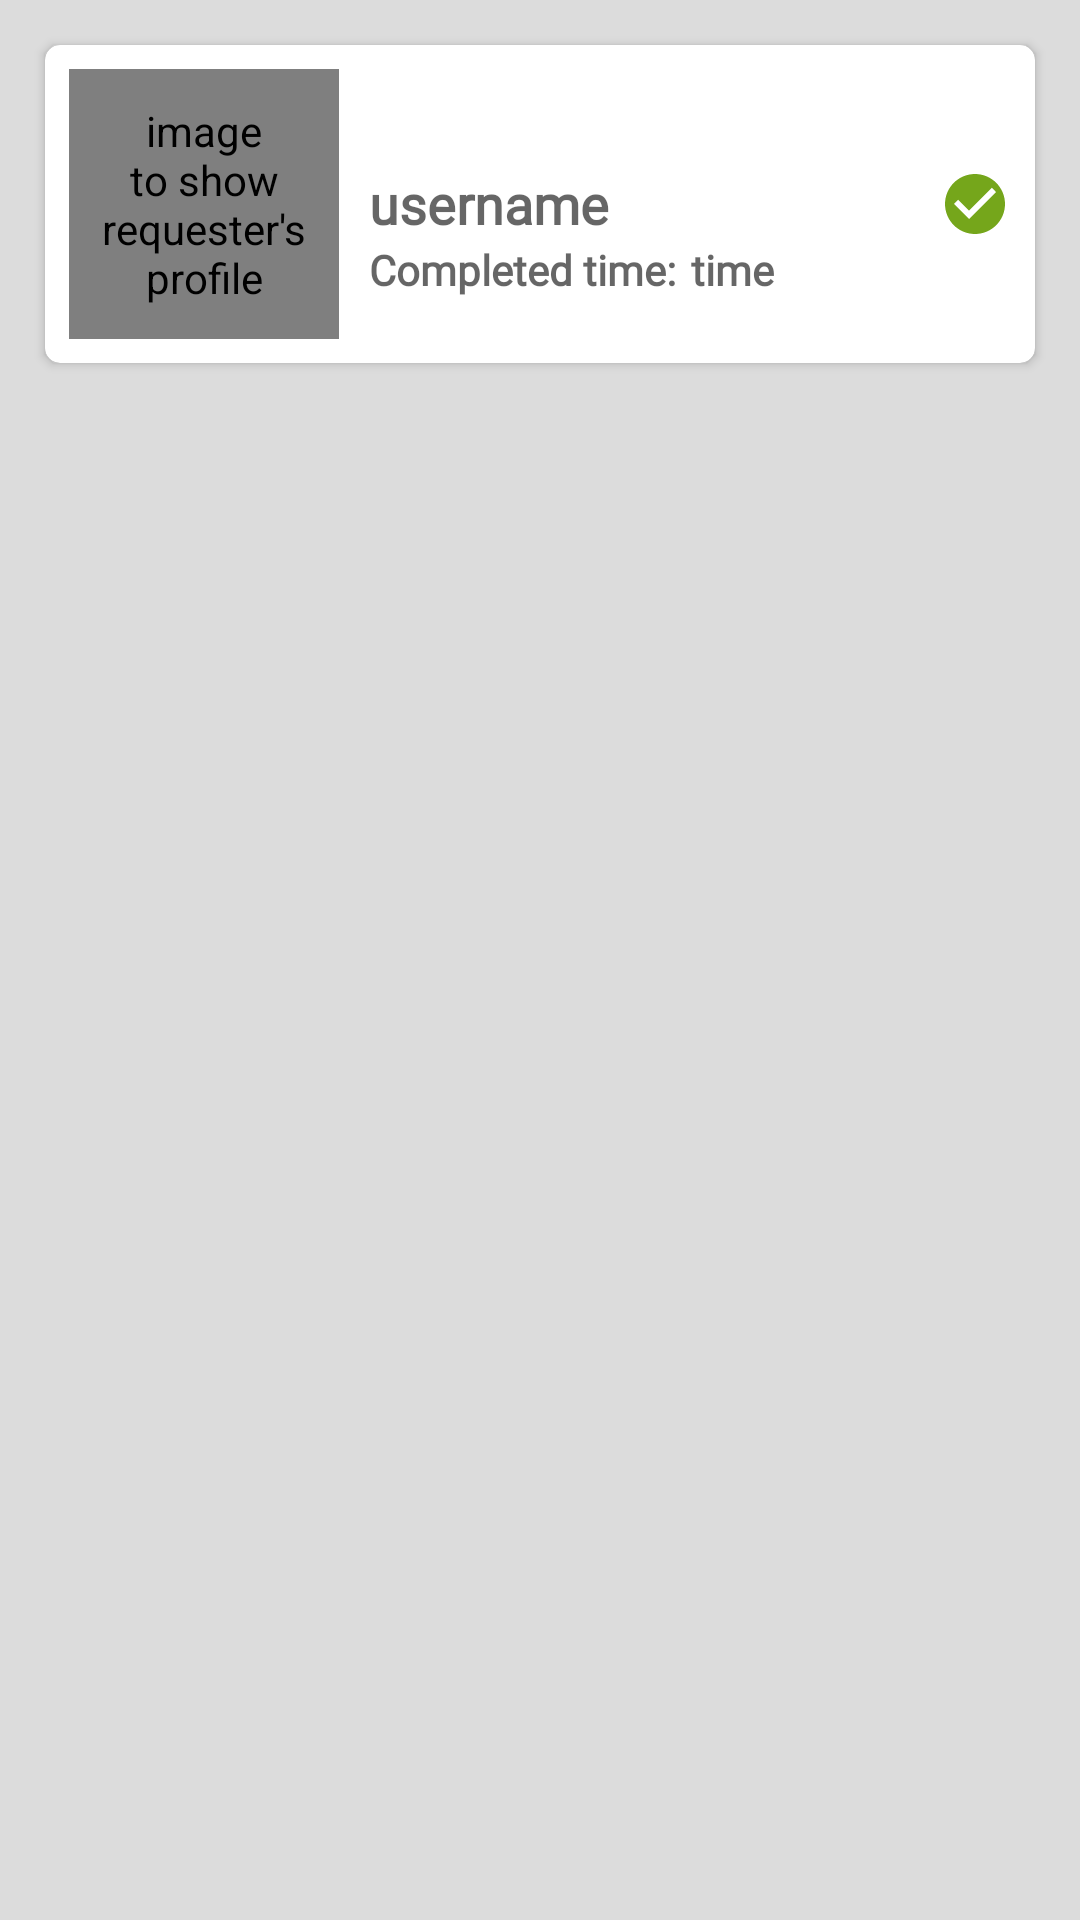

Point at icon controls on the screen. Image size 1080 x 1920, points as (x=x, y=y).
check: (x=975, y=204)
